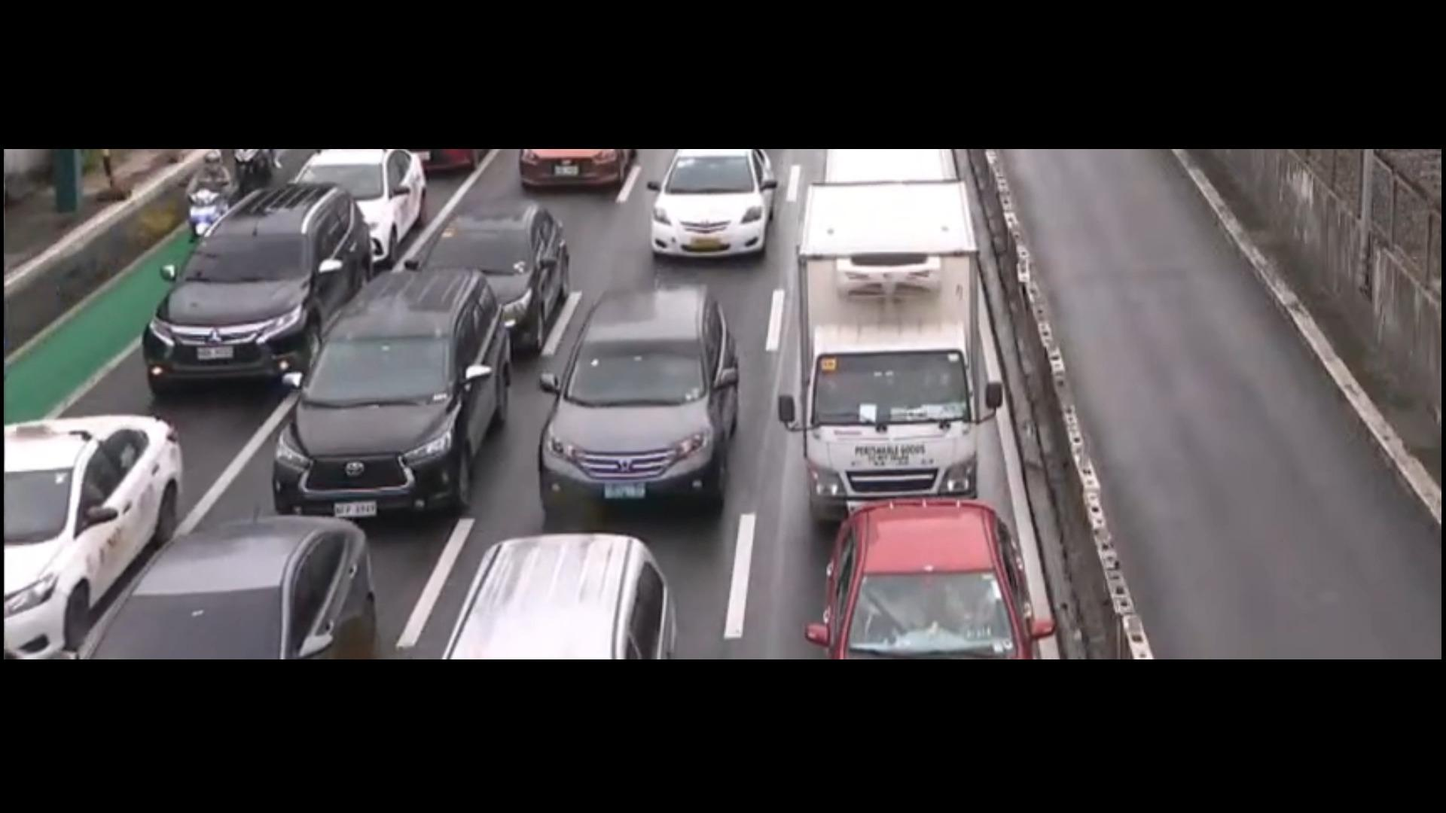Motorcycle: (187, 153, 234, 250)
SUV: (270, 270, 512, 518), (538, 286, 740, 528), (143, 183, 371, 396), (813, 494, 1045, 660)
Sedan: (4, 413, 185, 656), (77, 515, 380, 660), (414, 202, 574, 355), (295, 150, 426, 269), (653, 151, 776, 259)
Truck: (798, 180, 999, 522)
